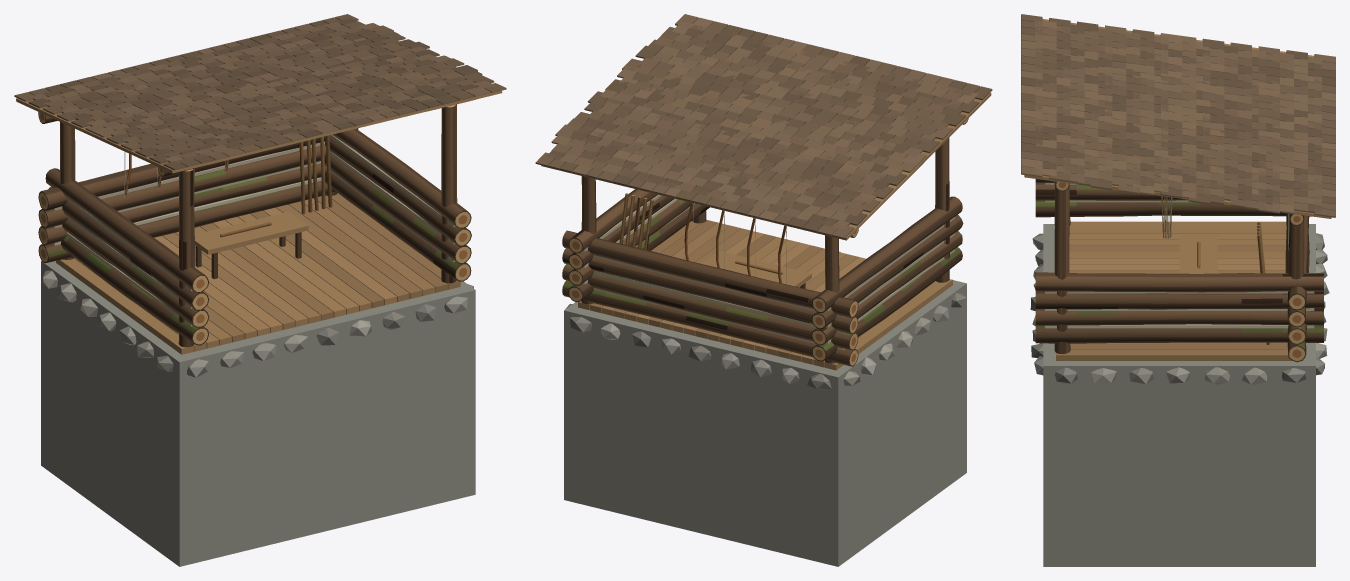
File: yayci.glb
3 views of the same model, side by side, from view 1: azimuth 30°, elevation 25°; view 2: azimuth 150°, elevation 25°; view 3: azimuth 270°, elevation 25° (orthographic). The views are drawn at different scales.
Parts seen in each view (by area): view 1: stone-plinth-001, plank-001, shingle-001, shingle-002, log-007, log-011, log-004, log-012, log-010, log-001, plank-work-002, stone-found-002 (+11 smaller); view 2: stone-plinth-001, shingle-001, shingle-002, plank-001, log-010, log-004, log-007, log-001, log-011, stone-found-003, wood-bows-001, log-008 (+11 smaller); view 3: stone-plinth-001, shingle-001, shingle-002, plank-001, log-012, log-009, log-006, log-003, log-002, stone-found-005, log-015, log-005 (+9 smaller).
Boxes of the visible parts, bbox=[...] form: stone-plinth-001: bbox=[41, 260, 475, 566]; plank-001: bbox=[56, 193, 460, 354]; shingle-001: bbox=[92, 49, 506, 173]; shingle-002: bbox=[14, 14, 429, 137]; log-007: bbox=[38, 145, 326, 228]; log-011: bbox=[45, 168, 208, 293]; log-004: bbox=[38, 163, 326, 245]; log-012: bbox=[329, 128, 471, 228]; log-010: bbox=[38, 128, 358, 210]; log-001: bbox=[38, 180, 335, 263]; plank-work-002: bbox=[194, 211, 308, 279]; stone-found-002: bbox=[187, 296, 467, 377]; stone-plinth-001: bbox=[564, 248, 966, 566]; shingle-001: bbox=[605, 14, 992, 167]; shingle-002: bbox=[535, 89, 918, 240]; plank-001: bbox=[578, 219, 952, 370]; log-010: bbox=[562, 230, 858, 318]; log-004: bbox=[562, 264, 858, 350]; log-007: bbox=[562, 248, 858, 334]; log-001: bbox=[562, 280, 858, 366]; log-011: bbox=[812, 196, 962, 312]; stone-found-003: bbox=[569, 317, 831, 389]; wood-bows-001: bbox=[619, 193, 786, 284]; log-008: bbox=[811, 215, 963, 329]; stone-plinth-001: bbox=[1043, 224, 1315, 566]; shingle-001: bbox=[1021, 14, 1182, 198]; shingle-002: bbox=[1175, 36, 1335, 218]; plank-001: bbox=[1056, 221, 1303, 360]; log-012: bbox=[1035, 272, 1323, 293]; log-009: bbox=[1035, 291, 1323, 310]; log-006: bbox=[1035, 308, 1323, 328]; log-003: bbox=[1035, 325, 1323, 343]; log-002: bbox=[1035, 200, 1311, 217]; stone-found-005: bbox=[1055, 367, 1306, 384]; log-015: bbox=[1054, 181, 1070, 354]; log-005: bbox=[1035, 183, 1192, 202].
Bounding box in the file's own units: 6.11 × 7.02 × 4.97.
